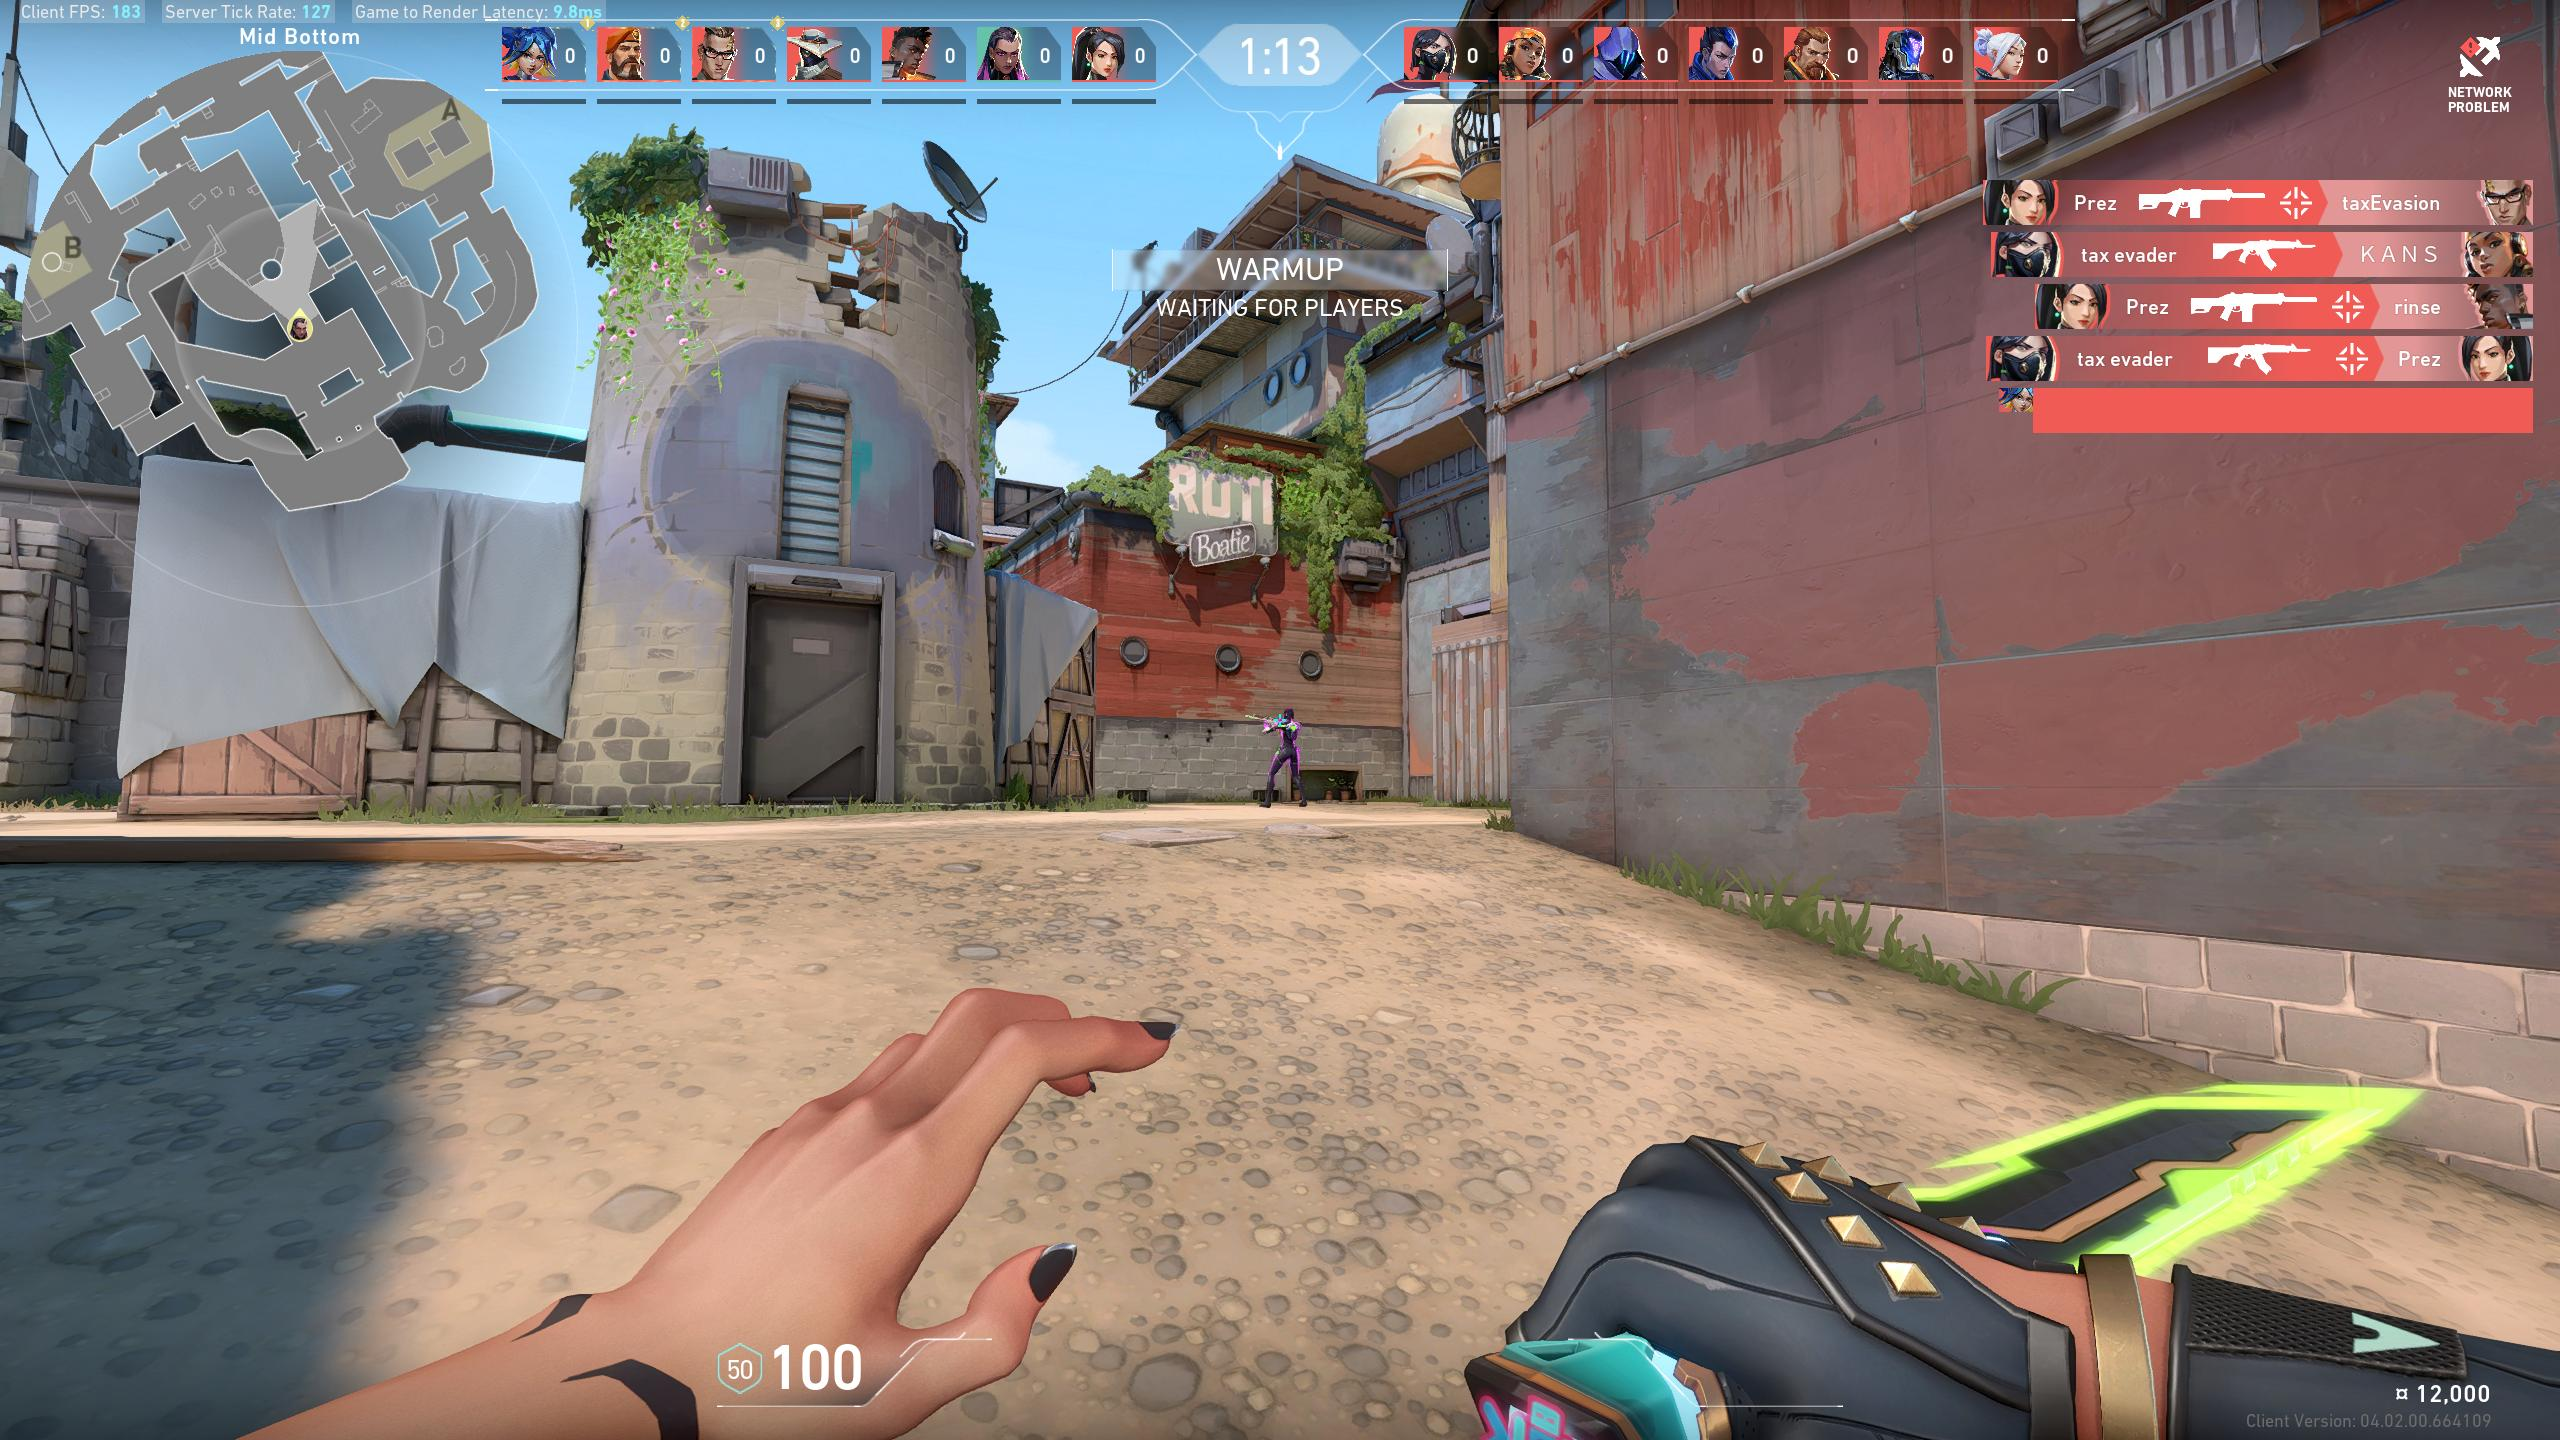enemyBody: (1282, 721, 1296, 744)
enemyHead: (1284, 709, 1292, 719)
